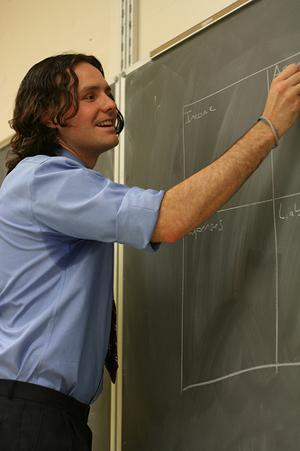person: (2, 55, 299, 449)
